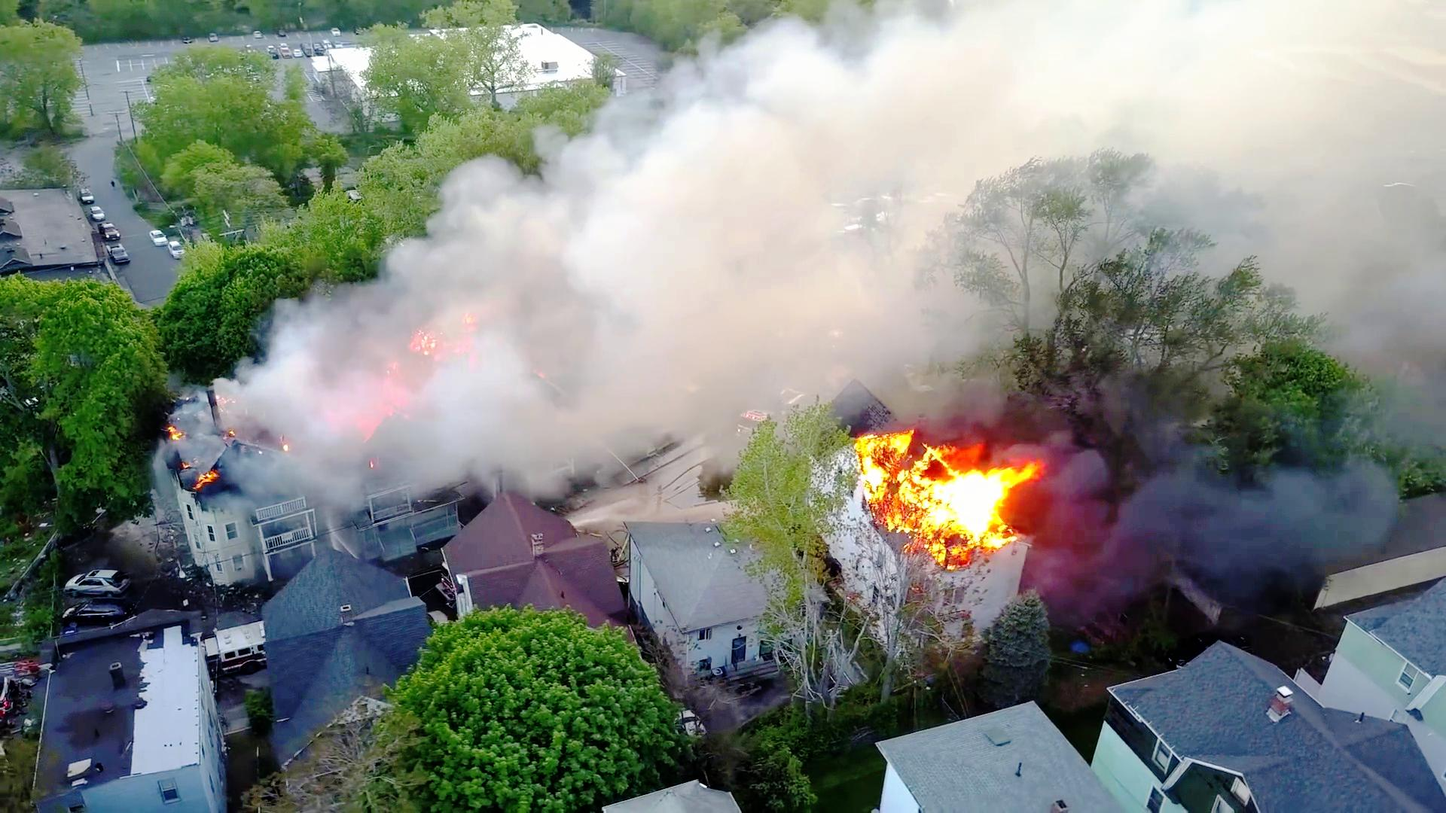fire: (853, 423, 1041, 553)
